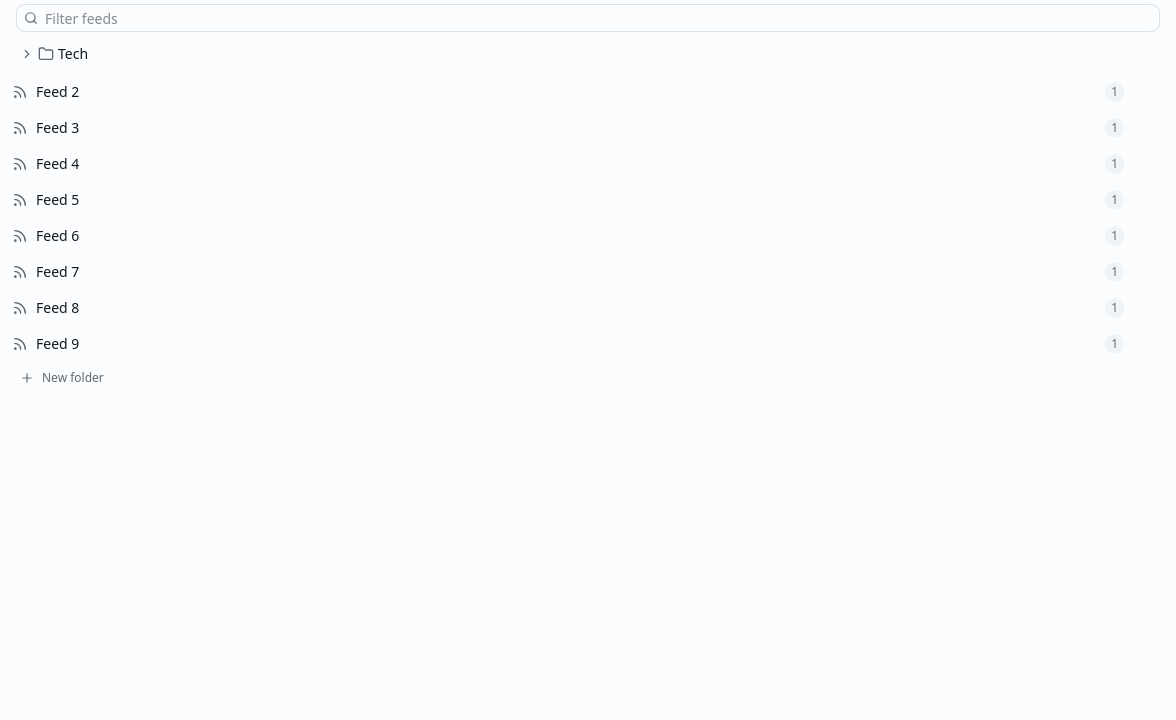
Test: feed filter and collapse all › Alt-click on a chevron expands, then collapses, every folder
What coordinates should you click on to do the following:
click the button named "Expand folder"
I would click on:
 (27, 54)
Its box is left=20, top=47, right=34, bottom=61.
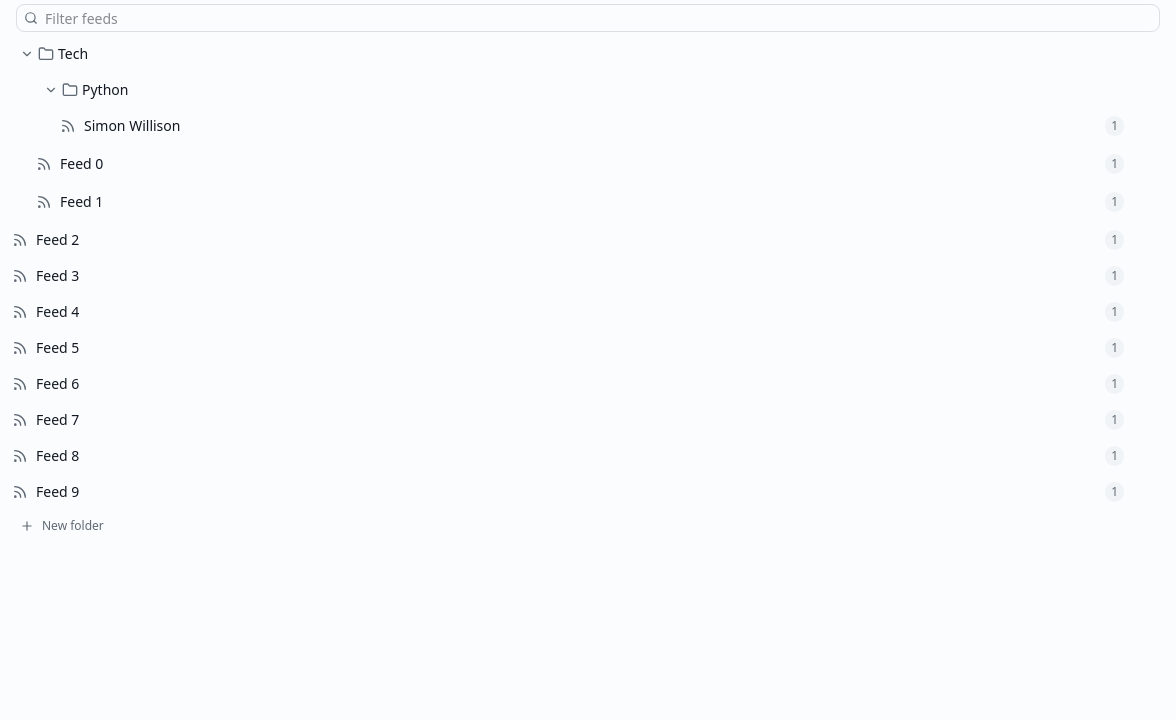
Expected: the button "Simon Willison" is shown, left=84, top=116, right=1097, bottom=136
What coordinates should you click on to do the following:
click the 1st button named "Collapse folder"
I would click on:
 (27, 54)
Its box is left=20, top=47, right=34, bottom=61.
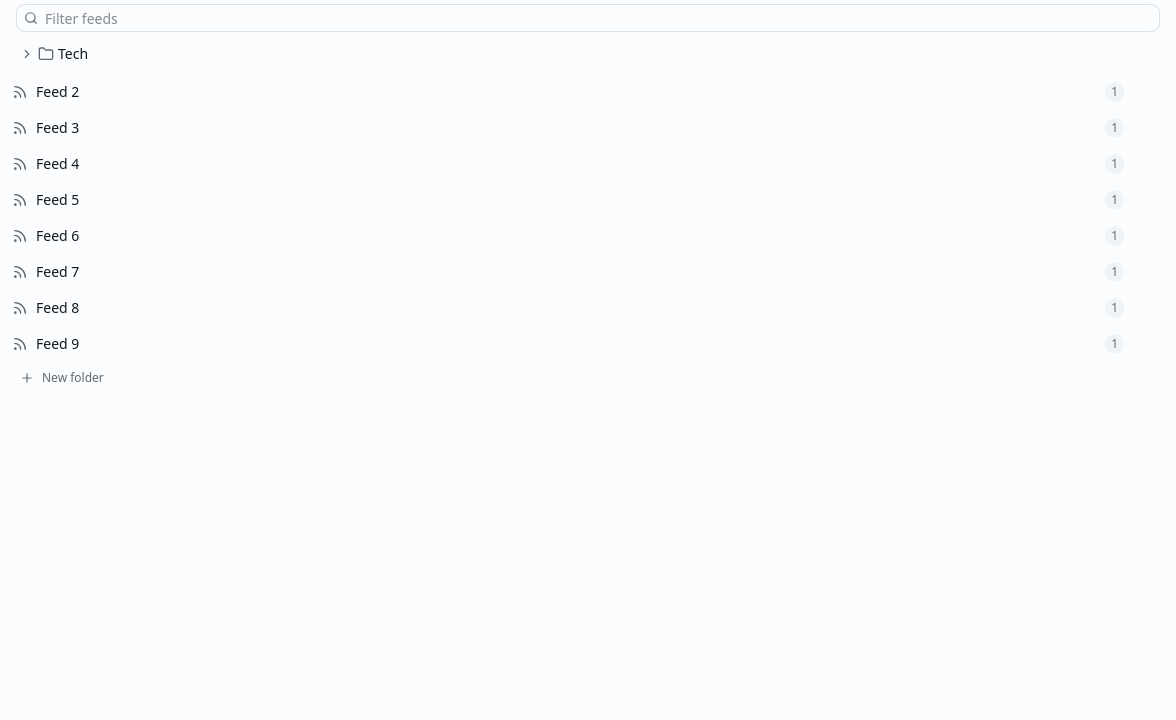
Expected: the button "Python" is gone
